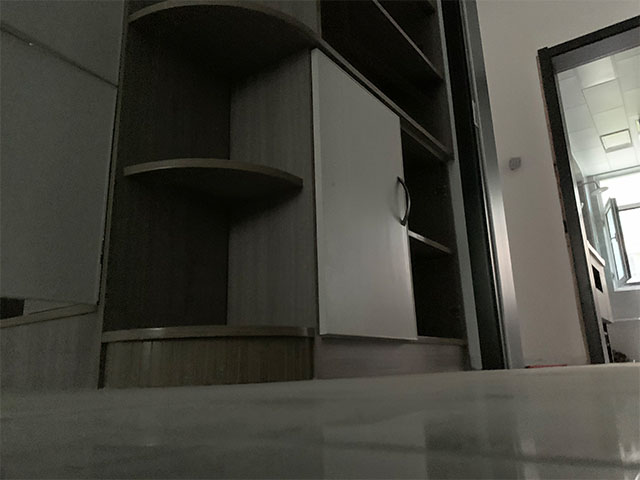cabinet: (104, 40, 484, 389)
